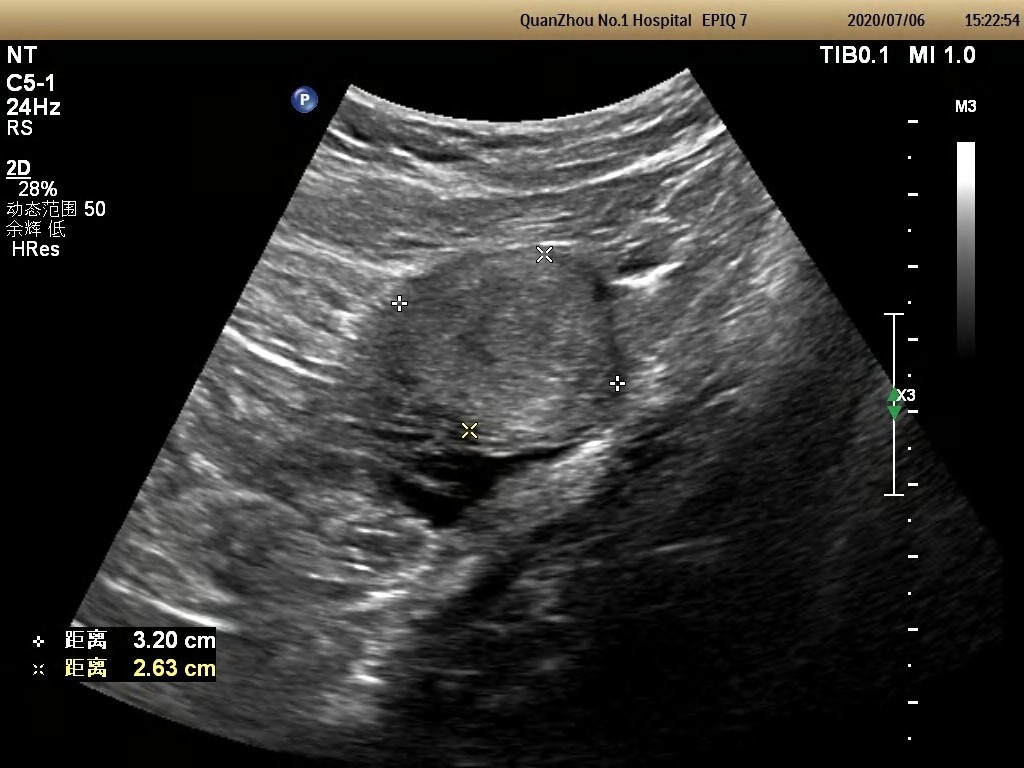肌瘤: (384, 246, 617, 443)
